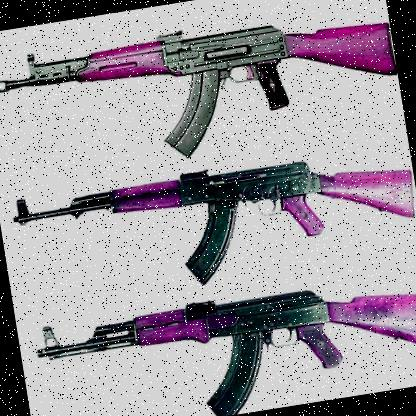rifle: (0, 0, 407, 197), (5, 116, 416, 309), (30, 241, 416, 416)
